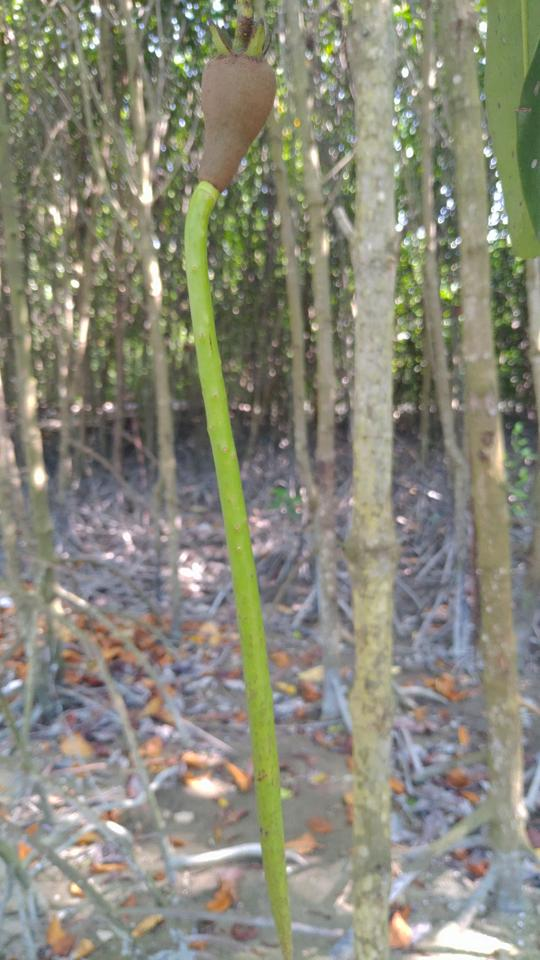setengah matang: (171, 10, 323, 951)
